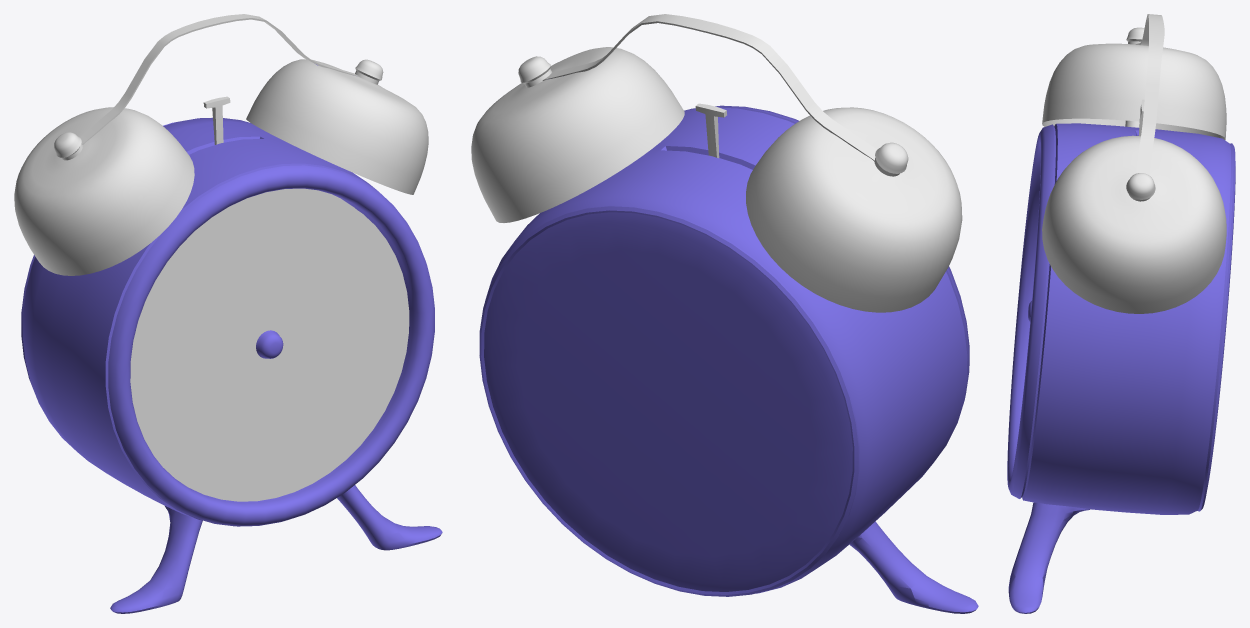
The model's file is Clock.fbx.
3 renders of one model, left to right at view 1: azimuth 30°, elevation 25°; view 2: azimuth 150°, elevation 25°; view 3: azimuth 270°, elevation 25°, orthographic. The views are drawn at different scales.
Parts seen in each view (by area): view 1: Clock; view 2: Clock; view 3: Clock.
Part boxes in pixels (x1,y1,x2,y2): Clock: [14, 14, 442, 613]; Clock: [471, 14, 978, 613]; Clock: [1007, 14, 1235, 613].
Bounding box in the file's own units: 9.63 × 11.87 × 4.87.
